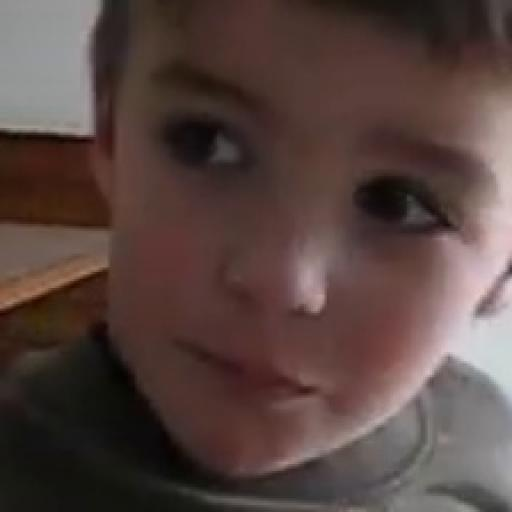Autism: (80, 16, 512, 512)
